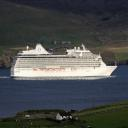cruises: (11, 40, 121, 85)
